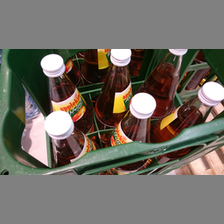juice: (39, 52, 96, 131), (108, 94, 159, 165), (94, 49, 134, 128), (43, 113, 101, 165)
